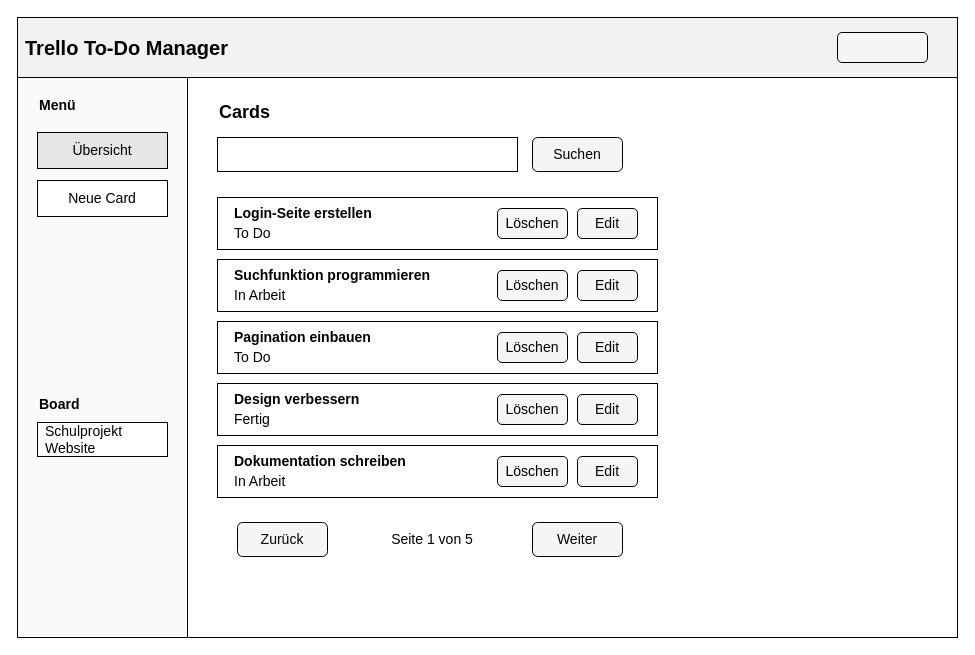
Image size: 975x655. Some labels were removed from this diagram. Here are the shapes that lost their labels. From the top down, the centre of each, then its label:
pixel 882 47: Abmelden
pixel 367 154: Suchfeld
